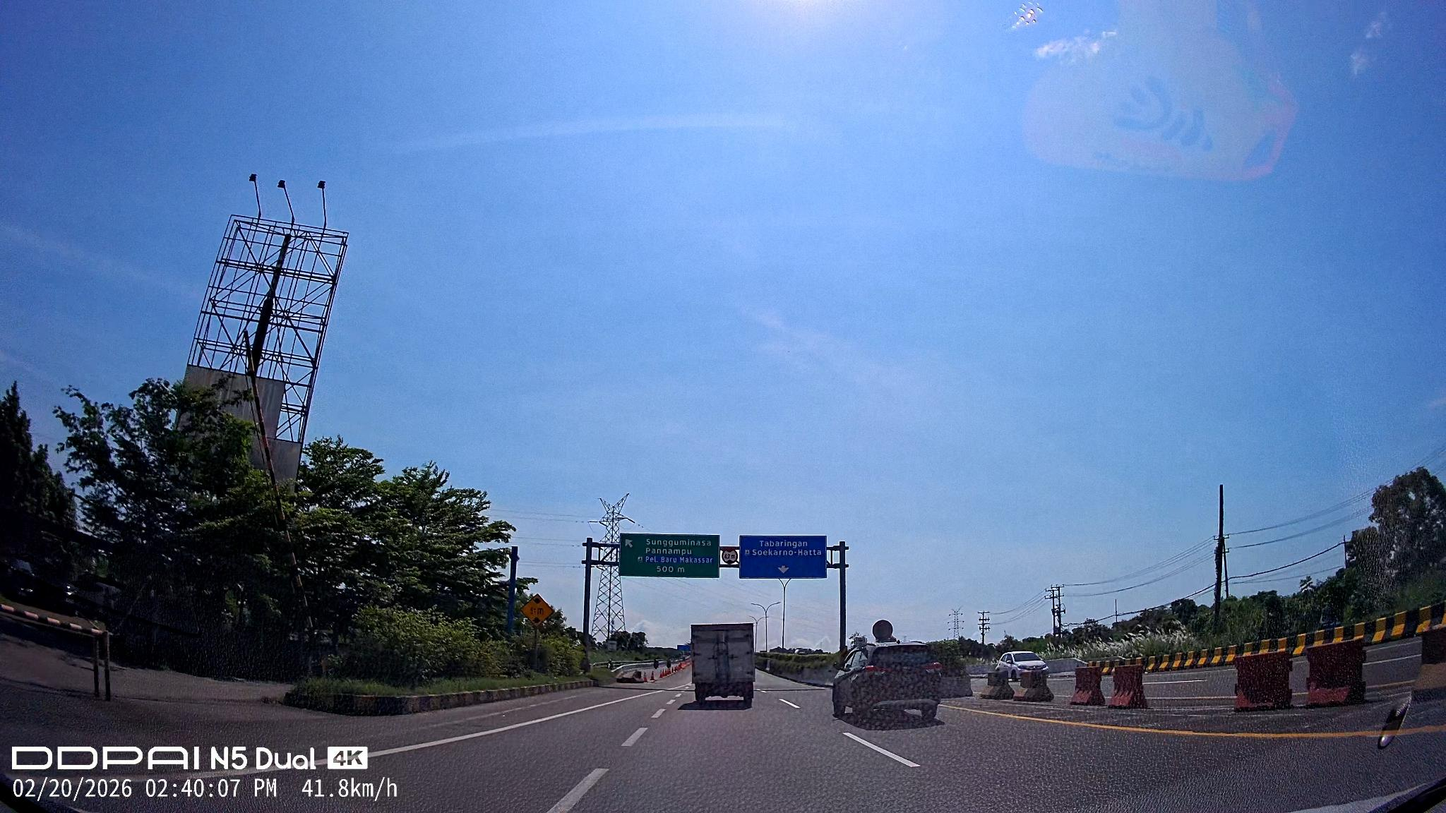rambu_teks: (619, 532, 720, 579), (738, 534, 828, 580)
